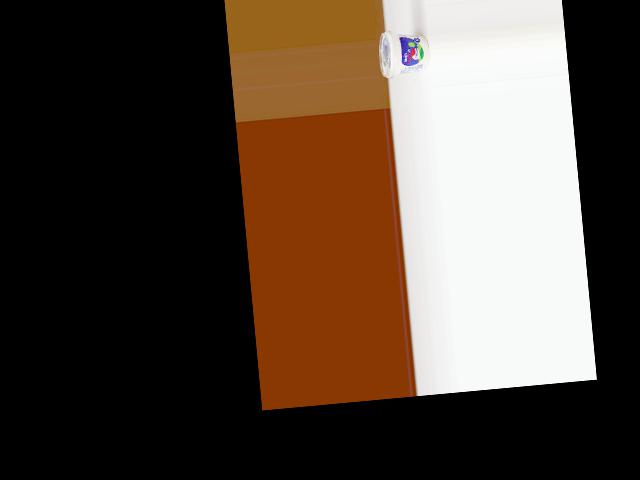cotage: (377, 27, 431, 80)
